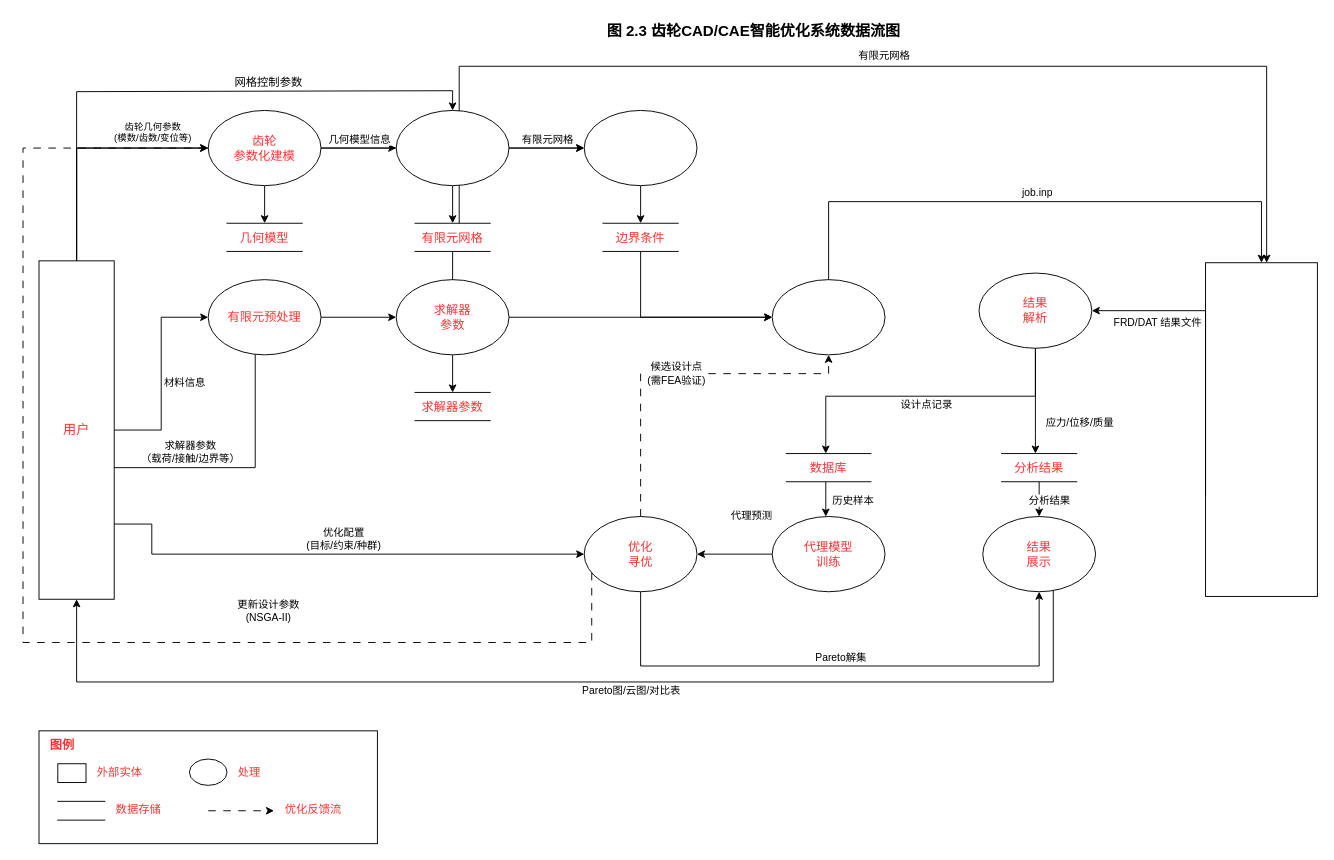
This 1334x860 diagram has some shape labels left out. Here are the shapes that lost their labels. From the top down, the centre of each, then its label:
(x=452, y=148): 网格 划分
(x=640, y=148): 施加 边界条件
(x=828, y=317): 有限元 求解
(x=1261, y=429): CalculiX求解器
